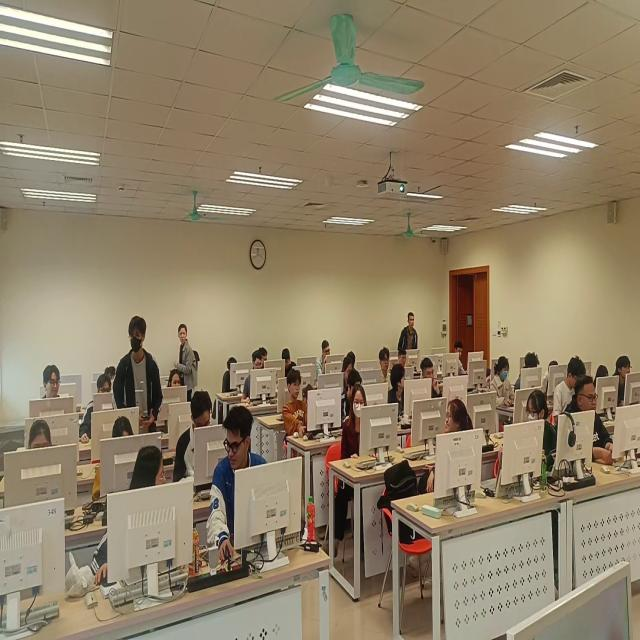raise_head: (566, 372, 614, 462), (615, 356, 635, 407), (42, 365, 65, 402), (378, 348, 392, 385), (168, 367, 183, 392)
stand: (113, 314, 163, 430), (178, 319, 202, 390), (397, 309, 421, 358)
using_computer: (93, 414, 143, 505), (173, 390, 215, 486), (341, 384, 372, 460), (79, 374, 113, 442), (555, 354, 583, 428), (283, 370, 310, 440), (25, 416, 59, 452), (244, 350, 263, 406), (516, 355, 539, 400), (492, 357, 512, 407), (342, 370, 361, 421), (420, 356, 440, 402), (221, 357, 239, 398), (317, 338, 330, 382), (454, 340, 467, 377), (281, 346, 296, 374), (593, 362, 610, 383), (343, 357, 355, 383)
